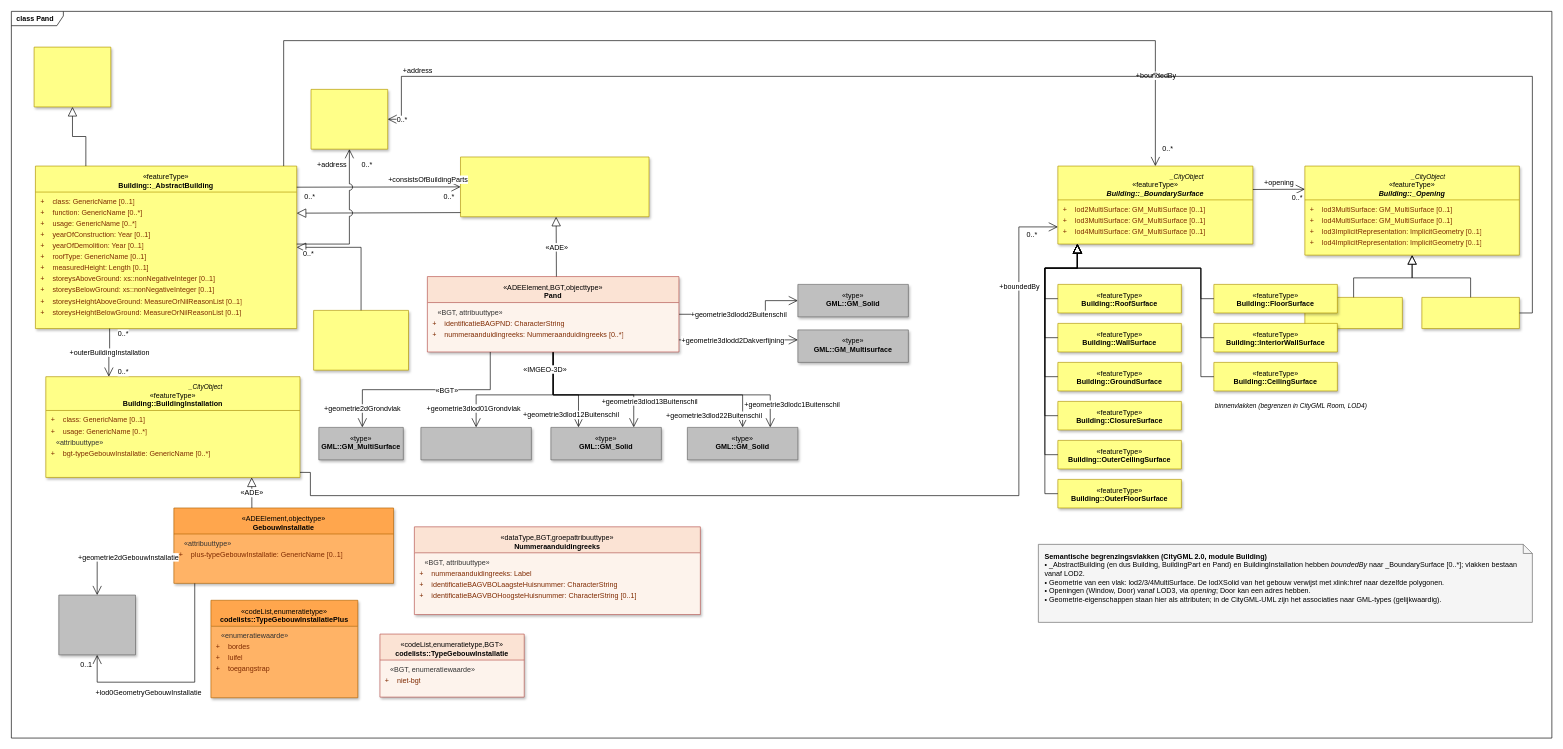
This 1563x749 diagram has some shape labels left out. The shapes that lost their labels are listed below. From the top down, each one's centre as x and y in pixels, then its label:
point 73,77: _CityObject «featureType» CityGML Core::_Site
point 350,120: _Feature «featureType» CityGML Core:: Address
point 555,187: «featureType» Building::BuildingPart
point 1354,313: «featureType» Building::Window
point 1471,313: «featureType» Building::Door
point 361,341: «featureType» Building::Building
point 476,444: «type» GML::GM_TriangulatedSurface
point 97,625: «type» GML::GM_Surface
